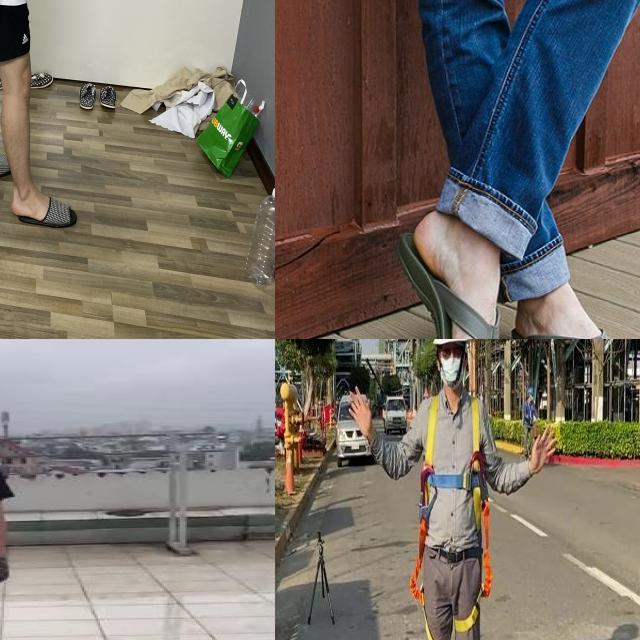Harness: (410, 396, 494, 634)
Sandals: (396, 210, 514, 339), (517, 271, 640, 339), (9, 182, 79, 231), (0, 146, 11, 188)
hand_glove: (0, 557, 11, 588)
